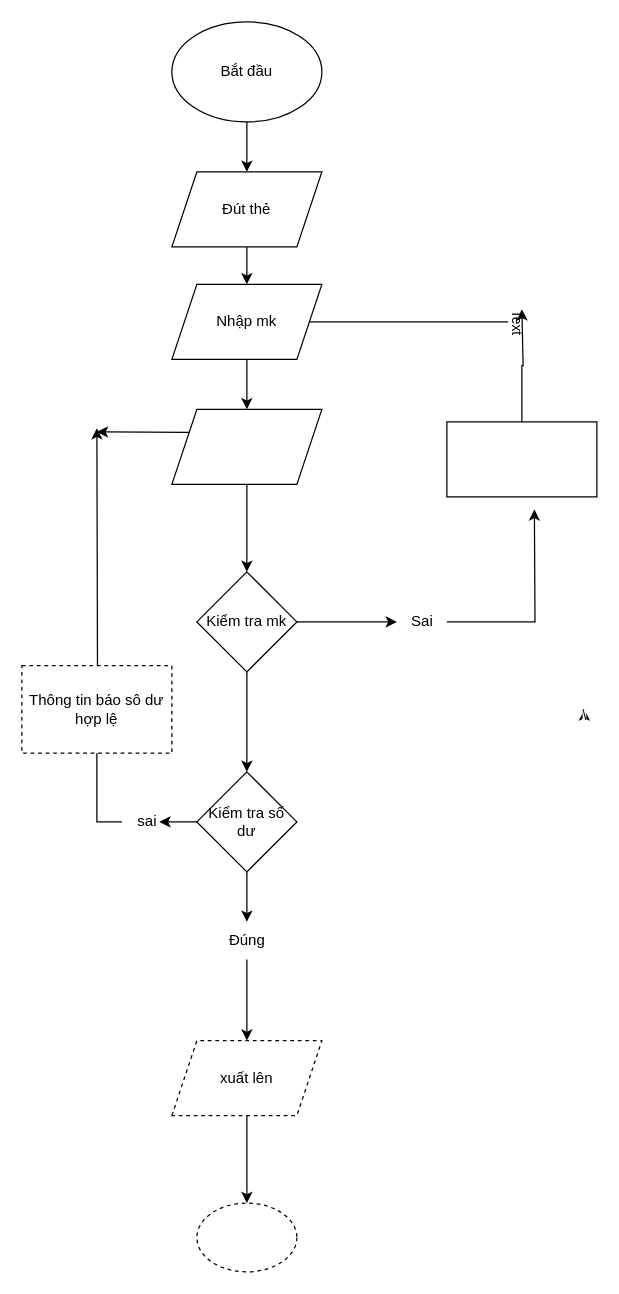
The diagram is 619 pixels wide and 1294 high, and some of its shapes have lost their labels. Each missing label, with the centre of its shape:
kết thúc: point (246, 1237)
nhập số tiền: point (246, 446)
Thông tin sai mk: point (521, 459)
